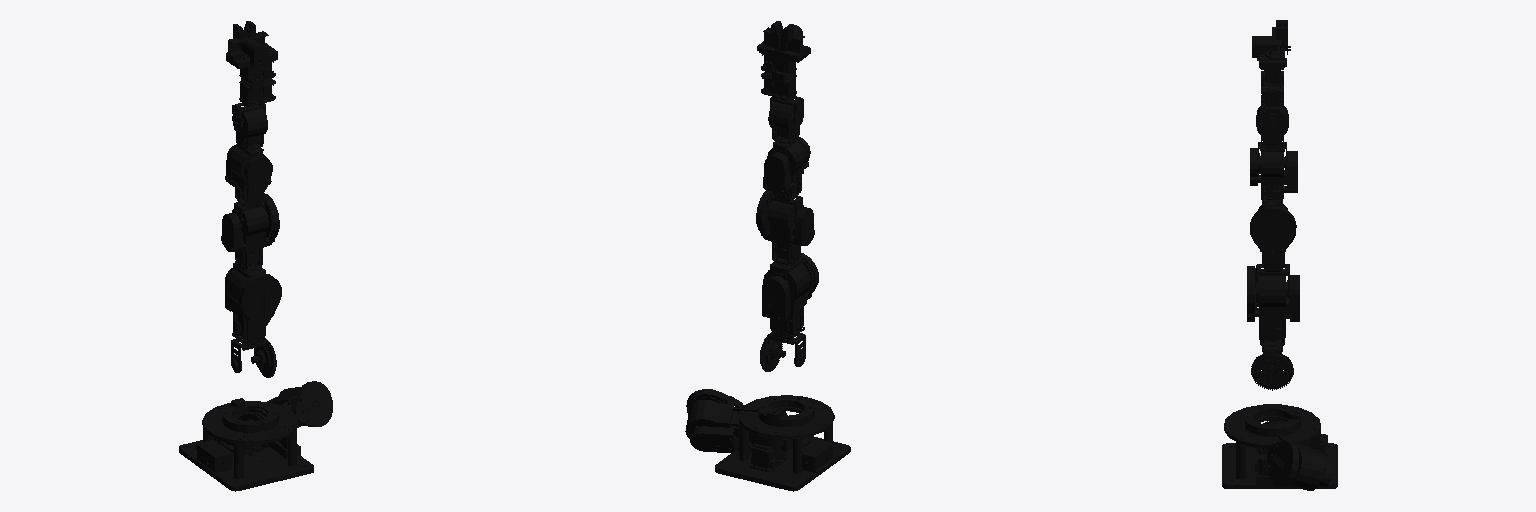
The robot description file, URDF, robot "cyton_gamma_1500":
<?xml version="1.0" ?>


<robot name="cyton_gamma_1500" xmlns:xacro="http://www.ros.org/wiki/xacro">

  <!--  base  -->

  <link name="base_footprint">
    <visual>
      <origin rpy="0 0 0" xyz="0 0 0"/>
      <geometry>
        <sphere radius="0.001"/>
      </geometry>
      <material name="white">
        <color rgba="1 1 1 1"/>
      </material>
    </visual>
  </link>

  <joint name="base_joint" type="fixed">
    <parent link="base_footprint"/>
    <child link="base_link"/>
    <origin rpy="0 0 0" xyz="0.0 0.0 0.0"/>
  </joint>

  <link name="base_link">
    <visual>
      <origin rpy="0 0 0" xyz="0 0 0"/>
      <geometry>
        <mesh filename="package://cyton_gamma_1500_description/meshes/base.dae"/>
      </geometry>
    </visual>
    <collision>
      <origin xyz="0 0.0115 0.047"/>
      <geometry>
        <box size="0.154 0.177 0.094"/>
      </geometry>
    </collision>
    <inertial>
      <mass value="100.0"/>
      <origin rpy="0 0 0" xyz="0 0 0"/>
      <inertia ixx="1.1027" iyy="1.1027" izz="1.1027"
                ixy="0" ixz="0" iyz="0"/>
    </inertial>
  </link>

<!-- shoulder roll -->

  <joint name="shoulder_roll_joint" type="revolute">
    <parent link="base_link"/>
    <child link="shoulder_roll"/>
    <origin rpy="0 0 0" xyz="0 0 0.05315"/>
    <limit effort="100.0" lower="-2.618" upper="2.618" velocity="1.0"/>
    <axis xyz="0 0 1"/>
  </joint>

  <link name="shoulder_roll">
    <visual>
      <origin rpy="1.5708 0 0.384" xyz="0 0 0"/>
      <geometry>
        <mesh filename="package://cyton_gamma_1500_description/meshes/shoulder_roll.dae"/>
      </geometry>
    </visual>
    <collision>
      <origin xyz="0.0 0.069 0.0587"/>
      <geometry>
        <box size="0.09829 0.18143 0.08392"/>
      </geometry>
    </collision>
    <inertial>
      <mass value="50.0"/>
      <origin rpy="0 0 0" xyz="0 0 0"/>
      <inertia ixx=".0027" iyy=".0027" izz=".0027"
                ixy="0" ixz="0" iyz="0"/>
    </inertial>
  </link>

  <transmission name="tran1">
    <type>transmission_interface/SimpleTransmission</type>
    <joint name="shoulder_roll_joint">
      <hardwareInterface>PositionJointInterface</hardwareInterface>
    </joint>
    <actuator name="motor1">
      <hardwareInterface>PositionJointInterface</hardwareInterface>
    </actuator>
  </transmission>

  <!-- shoulder pitch  -->

  <joint name="shoulder_pitch_joint" type="revolute">
    <parent link="shoulder_roll"/>
    <child link="shoulder_pitch"/>
    <origin rpy="0 0 0" xyz="0.0205 0 0.12435"/>
    <limit effort="100.0" lower="-1.8326" upper="1.8326" velocity="1.0"/>
    <axis xyz="1 0 0"/>
  </joint>

  <link name="shoulder_pitch">
    <visual>
      <origin rpy="1.5708 0 0" xyz="0 0 0"/>
      <geometry>
        <mesh filename="package://cyton_gamma_1500_description/meshes/shoulder_pitch.dae"/>
      </geometry>
    </visual>
    <collision>
      <origin xyz="-0.001 0.064 0.1745"/>
      <geometry>
        <box size="0.0709 0.19363 0.083"/>
      </geometry>
    </collision>
    <inertial>
      <mass value="20.0"/>
      <origin rpy="0 0 0" xyz="0 0 0"/>
      <inertia ixx=".0027" iyy=".0027" izz=".0027"
                ixy="0" ixz="0" iyz="0"/>
    </inertial>
  </link>

  <transmission name="tran2">
    <type>transmission_interface/SimpleTransmission</type>
    <joint name="shoulder_pitch_joint">
      <hardwareInterface>PositionJointInterface</hardwareInterface>
    </joint>
    <actuator name="motor2">
      <hardwareInterface>PositionJointInterface</hardwareInterface>
    </actuator>
  </transmission>

  <!--  shoulder yaw  -->

  <joint name="shoulder_yaw_joint" type="revolute">
    <parent link="shoulder_pitch"/>
    <child link="shoulder_yaw"/>
    <origin rpy="0 0 0" xyz="-0.0215 -0.0205 0.1255"/>
    <limit effort="100.0" lower="-1.8326" upper="1.8326" velocity="1.0"/>
    <axis xyz="0 -1 0"/>
  </joint>

  <link name="shoulder_yaw">
    <visual>
      <origin rpy="1.5708 0 -1.5708" xyz="0 0 0.0"/>
      <geometry>
        <mesh filename="package://cyton_gamma_1500_description/meshes/shoulder_yaw.dae"/>
      </geometry>
    </visual>
    <collision>
      <origin xyz="-0.0225 0.039 0.3068"/>
      <geometry>
        <box size="0.0717 0.1846 0.0756"/>
      </geometry>
    </collision>
    <inertial>
      <mass value="10.0"/>
      <origin rpy="0 0 0" xyz="0 0 0"/>
      <inertia ixx=".0027" iyy=".0027" izz=".0027"
                ixy="0" ixz="0" iyz="0"/>
    </inertial>
  </link>

  <transmission name="tran3">
    <type>transmission_interface/SimpleTransmission</type>
    <joint name="shoulder_yaw_joint">
      <hardwareInterface>PositionJointInterface</hardwareInterface>
    </joint>
    <actuator name="motor3">
      <hardwareInterface>PositionJointInterface</hardwareInterface>
    </actuator>
  </transmission>

  <!--  elbow pitch  -->

  <joint name="elbow_pitch_joint" type="revolute">
    <parent link="shoulder_yaw"/>
    <child link="elbow_pitch"/>
    <origin rpy="0 0 0" xyz="0.018 0.0206 0.1158"/>
    <limit effort="100.0" lower="-1.8326" upper="1.8326" velocity="1.0"/>
    <axis xyz="1 0 0"/>
  </joint>

  <link name="elbow_pitch">
    <visual>
      <origin rpy="1.5708 0 3.1416" xyz="0 0 0"/>
      <geometry>
        <mesh filename="package://cyton_gamma_1500_description/meshes/elbow_pitch.dae"/>
      </geometry>
    </visual>
    <collision>
      <origin xyz="0.0346 0.0461 0.4228"/>
      <geometry>
        <box size="0.0549 0.1557 0.076"/>
      </geometry>
    </collision>
    <inertial>
      <mass value="10.0"/>
      <origin rpy="0 0 0" xyz="0 0 0"/>
      <inertia ixx=".0027" iyy=".0027" izz=".0027"
                ixy="0" ixz="0" iyz="0"/>
    </inertial>
  </link>

  <transmission name="tran4">
    <type>transmission_interface/SimpleTransmission</type>
    <joint name="elbow_pitch_joint">
      <hardwareInterface>PositionJointInterface</hardwareInterface>
    </joint>
    <actuator name="motor4">
      <hardwareInterface>PositionJointInterface</hardwareInterface>
    </actuator>
  </transmission>

  <!--  elbow yaw  -->

  <joint name="elbow_yaw_joint" type="revolute">
    <parent link="elbow_pitch"/>
    <child link="elbow_yaw"/>
    <origin rpy="0 0 0" xyz="-0.0171 -0.018 0.09746"/>
    <limit effort="100.0" lower="-1.8326" upper="1.8326" velocity="1.0"/>
    <axis xyz="0 -1 0"/>
  </joint>

  <link name="elbow_yaw">
    <visual>
      <origin rpy="1.5708 0 1.5708" xyz="0 0 0"/>
      <geometry>
        <mesh filename="package://cyton_gamma_1500_description/meshes/elbow_yaw.dae"/>
      </geometry>
    </visual>
    <collision>
      <origin xyz="0.0172 0.0209 0.516"/>
      <geometry>
        <box size="0.0535 0.1160 0.0402"/>
      </geometry>
    </collision>
    <inertial>
      <mass value="10.0"/>
      <origin rpy="0 0 0" xyz="0 0 0"/>
      <inertia ixx=".0027" iyy=".0027" izz=".0027"
                ixy="0" ixz="0" iyz="0"/>
    </inertial>
  </link>

  <transmission name="tran5">
    <type>transmission_interface/SimpleTransmission</type>
    <joint name="elbow_yaw_joint">
      <hardwareInterface>PositionJointInterface</hardwareInterface>
    </joint>
    <actuator name="motor5">
      <hardwareInterface>PositionJointInterface</hardwareInterface>
    </actuator>
  </transmission>

  <!--  wrist pitch  -->

  <joint name="wrist_pitch_joint" type="revolute">
    <parent link="elbow_yaw"/>
    <child link="wrist_pitch"/>
    <origin rpy="0 0 0" xyz="0.02626 0.018 0.0718"/>
    <limit effort="100.0" lower="-1.8326" upper="1.8326" velocity="1.0"/>
    <axis xyz="-1 0 0"/>
  </joint>

  <link name="wrist_pitch">
    <visual>
      <origin rpy="1.5708 0 1.5708" xyz="0 0 0"/>
      <geometry>
        <mesh filename="package://cyton_gamma_1500_description/meshes/wrist_pitch.dae"/>
      </geometry>
    </visual>
    <collision>
      <origin xyz="0.0257 0.0118 0.5617"/>
      <geometry>
        <box size="0.026 0.0435 0.05185"/>
      </geometry>
    </collision>
    <inertial>
      <mass value="10.0"/>
      <origin rpy="0 0 0" xyz="0 0 0"/>
      <inertia ixx=".0027" iyy=".0027" izz=".0027"
                ixy="0" ixz="0" iyz="0"/>
    </inertial>
  </link>

  <transmission name="tran6">
    <type>transmission_interface/SimpleTransmission</type>
    <joint name="wrist_pitch_joint">
      <hardwareInterface>PositionJointInterface</hardwareInterface>
    </joint>
    <actuator name="motor6">
      <hardwareInterface>PositionJointInterface</hardwareInterface>
    </actuator>
  </transmission>

  <!--  wrist roll  -->

  <joint name="wrist_roll_joint" type="revolute">
    <parent link="wrist_pitch"/>
    <child link="wrist_roll"/>
    <origin rpy="0 0 0" xyz="-0.026255 0 0.051425"/>
    <limit effort="100.0" lower="-2.61799" upper="2.61799" velocity="1.0"/>
    <axis xyz="0 0 1"/>
  </joint>

  <link name="wrist_roll">
    <visual>
      <origin rpy="3.1416 0 -1.5708" xyz="0 0 0"/>
      <geometry>
        <mesh filename="package://cyton_gamma_1500_description/meshes/wrist_roll.dae"/>
      </geometry>
    </visual>
    <collision>
      <origin xyz="-0.0063 -0.0014 0.6102"/>
      <geometry>
        <box size="0.0518 0.0723 0.1004"/>
      </geometry>
    </collision>
    <inertial>
      <mass value="10.0"/>
      <origin rpy="0 0 0" xyz="0 0 0"/>
      <inertia ixx=".0027" iyy=".0027" izz=".0027"
                ixy="0" ixz="0" iyz="0"/>
    </inertial>
  </link>

  <transmission name="tran7">
    <type>transmission_interface/SimpleTransmission</type>
    <joint name="wrist_roll_joint">
      <hardwareInterface>PositionJointInterface</hardwareInterface>
    </joint>
    <actuator name="motor7">
      <hardwareInterface>PositionJointInterface</hardwareInterface>
    </actuator>
  </transmission>

  <!--  gripper  stuff  -->

  <joint name="gripper_joint" type="prismatic">
    <parent link="wrist_roll"/>
    <child link="gripper_finger1"/>
    <origin rpy="0 0 0" xyz="-0.01331 0.00485 0.077225"/>
    <limit effort="100.0" lower="-0.008" upper="0.008" velocity="1.0"/>
    <axis xyz="1 0 0"/>
  </joint>

  <link name="gripper_finger1">
    <visual>
      <origin rpy="0 0 0" xyz="0 0 0"/>
      <geometry>
        <mesh filename="package://cyton_gamma_1500_description/meshes/gripper_finger1.dae"/>
      </geometry>
    </visual>
    <collision>
      <origin xyz="-0.0167 0.0172 0.7254"/>
      <geometry>
        <box size="0.015 0.0229 0.0475"/>
      </geometry>
    </collision>
    <inertial>
      <mass value="1.0"/>
      <origin rpy="0 0 0" xyz="0 0 0"/>
      <inertia ixx=".0027" iyy=".0027" izz=".0027"
                ixy="0" ixz="0" iyz="0"/>
    </inertial>
  </link>

  <transmission name="tran8">
    <type>transmission_interface/SimpleTransmission</type>
    <joint name="gripper_joint">
      <hardwareInterface>PositionJointInterface</hardwareInterface>
    </joint>
    <actuator name="motor8">
      <hardwareInterface>PositionJointInterface</hardwareInterface>
    </actuator>
  </transmission>

  <joint name="gripper_joint2" type="prismatic">
    <parent link="wrist_roll"/>
    <child link="gripper_finger2"/>
    <origin rpy="0 0 0" xyz="0.0098 0.00485 0.077225"/>
    <limit effort="100.0" lower="-0.008" upper="0.008" velocity="1.0"/>
    <mimic joint="gripper_joint" multiplier="-1"/>
    <axis xyz="1 0 0"/>
  </joint>

  <link name="gripper_finger2">
    <visual>
      <origin rpy="0 0 0" xyz="0 0 0"/>
      <geometry>
        <mesh filename="package://cyton_gamma_1500_description/meshes/gripper_finger2.dae"/>
      </geometry>
    </visual>
    <collision>
      <origin xyz="0.0132 0.0172 0.7254"/>
      <geometry>
        <box size="0.015 0.0229 0.0475"/>
      </geometry>
    </collision>
    <inertial>
      <mass value="1.0"/>
      <origin rpy="0 0 0" xyz="0 0 0"/>
      <inertia ixx=".0027" iyy=".0027" izz=".0027"
                ixy="0" ixz="0" iyz="0"/>
    </inertial>
  </link>

  <transmission name="tran9">
    <type>transmission_interface/SimpleTransmission</type>
    <joint name="gripper_joint2">
      <hardwareInterface>PositionJointInterface</hardwareInterface>
    </joint>
    <actuator name="motor9">
      <hardwareInterface>PositionJointInterface</hardwareInterface>
    </actuator>
  </transmission>

  <gazebo>
    <plugin name="gazebo_ros_control" filename="libgazebo_ros_control.so"/>
  </gazebo>
  <gazebo>
    <plugin name="joint_state_publisher"
            filename="libgazebo_ros_joint_state_publisher.so">
      <jointName>shoulder_roll_joint, shoulder_pitch_joint, shoulder_yaw_joint, elbow_pitch_joint, elbow_yaw_joint, wrist_pitch_joint, wrist_roll_joint, gripper_joint, gripper_joint2</jointName>
    </plugin>
  </gazebo>

  <!--  virtual gripper  stuff  --> 

  <joint name="virtual_endeffector_joint" type="fixed">
      <parent link="wrist_roll"/>
      <child link="virtual_endeffector"/>
      <origin rpy="0 0 0" xyz="-0.002316 0.0079 0.079425"/>
    </joint>

    <link name="virtual_endeffector">
      <visual>
        <origin rpy="0 0 0" xyz="0 0 0"/>
        <geometry>
          <sphere radius="0.002"/>
        </geometry>
        <material name="grey">
          <color rgba="0.7 0.7 0.7 0.8"/>
        </material>
      </visual>
    </link>

</robot>

--- Render facts (derived) ---
3 views of the same robot in one strip: view 1: azimuth 30°, elevation 25°; view 2: azimuth 150°, elevation 25°; view 3: azimuth 270°, elevation 25° (orthographic).
Robot: cyton_gamma_1500 — 12 links, 11 joints (7 revolute, 2 prismatic, 2 fixed); root link base_footprint; default pose: every joint at zero.
Links seen in each view (by area): view 1: base_link, shoulder_pitch, shoulder_yaw, wrist_roll, elbow_pitch, shoulder_roll, elbow_yaw; view 2: base_link, shoulder_pitch, shoulder_roll, shoulder_yaw, elbow_pitch, wrist_roll, elbow_yaw; view 3: base_link, shoulder_pitch, shoulder_roll, shoulder_yaw, elbow_pitch, wrist_roll, elbow_yaw.
Link boxes in pixels (x1,y1,x2,y2): base_link: (179, 398, 313, 491); shoulder_pitch: (225, 268, 281, 377); shoulder_yaw: (221, 193, 279, 277); wrist_roll: (226, 31, 277, 106); elbow_pitch: (225, 144, 272, 237); shoulder_roll: (238, 381, 332, 451); elbow_yaw: (232, 108, 267, 157); base_link: (715, 395, 850, 491); shoulder_pitch: (760, 253, 818, 371); shoulder_roll: (685, 389, 787, 452); shoulder_yaw: (756, 190, 814, 292); elbow_pitch: (763, 137, 810, 231); wrist_roll: (757, 25, 810, 99); elbow_yaw: (768, 100, 803, 155); base_link: (1222, 404, 1337, 488); shoulder_pitch: (1247, 266, 1299, 390); shoulder_roll: (1256, 419, 1332, 490); shoulder_yaw: (1250, 202, 1296, 309); elbow_pitch: (1250, 148, 1297, 206); wrist_roll: (1252, 27, 1286, 109); elbow_yaw: (1256, 106, 1288, 172).
Bounding box of the posed robot: 0.2394 × 0.177 × 0.7501 m (x, y, z).
Meshes: 10 distinct files referenced, 10 mesh visuals loaded (10 Collada DAE).